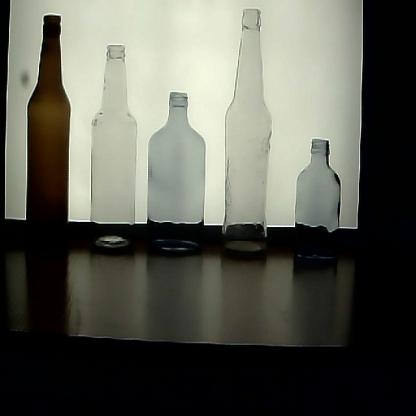Can: (216, 7, 277, 262), (22, 13, 74, 255), (88, 41, 142, 260), (145, 90, 208, 262), (292, 134, 344, 269)
